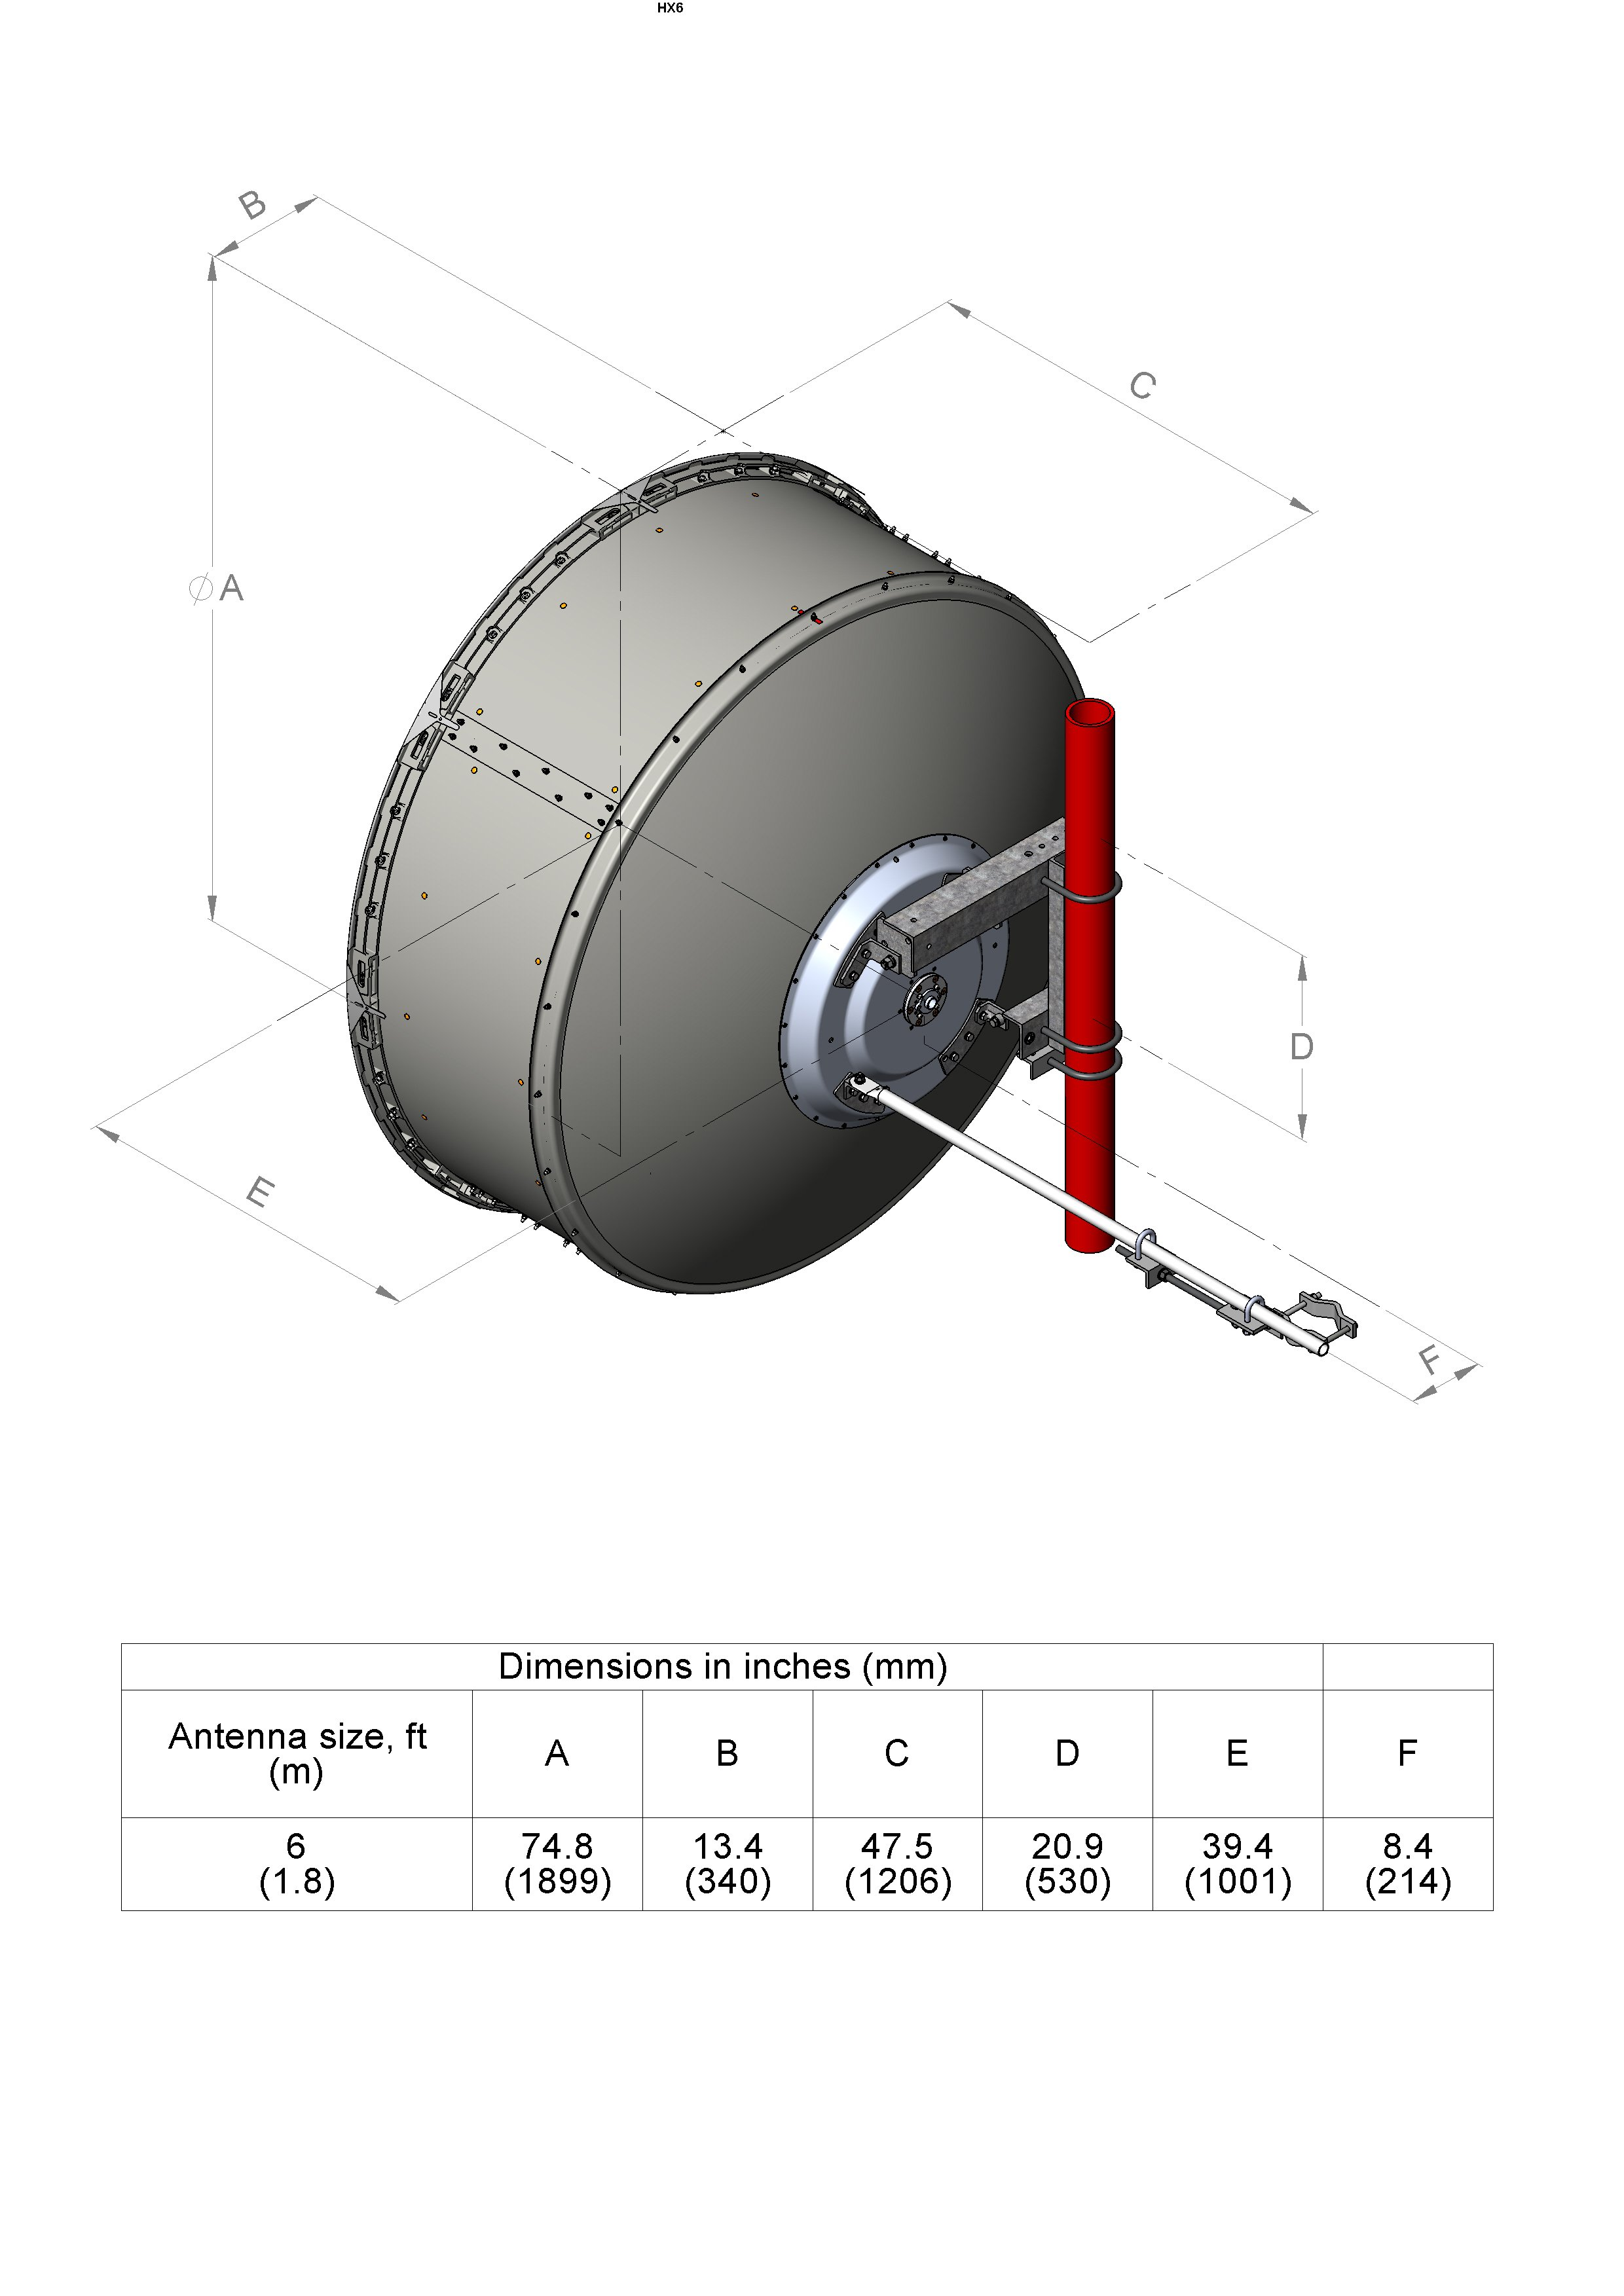ba: (234, 401, 1276, 1455)
